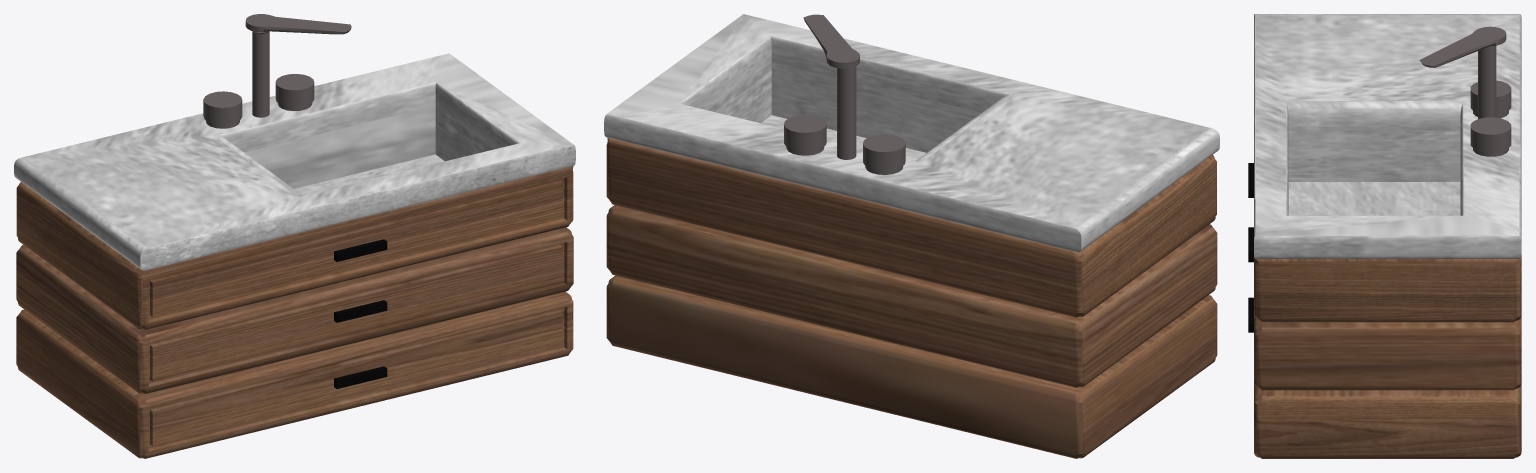
3 renders of one model, left to right at view 1: azimuth 30°, elevation 25°; view 2: azimuth 150°, elevation 25°; view 3: azimuth 270°, elevation 25°, orthographic. The views are drawn at different scales.
Parts seen in each view (by area): view 1: Sink V; view 2: Sink V; view 3: Sink V.
Boxes of the visible parts, x1=… form: Sink V: x1=14, y1=14, x2=575, y2=458; Sink V: x1=604, y1=14, x2=1219, y2=458; Sink V: x1=1248, y1=14, x2=1521, y2=458.
Bounding box in the file's own units: 1.28 × 0.8551 × 0.6565.
1 material, 1 textured.
